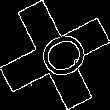O_SW: (23, 24, 87, 86)
